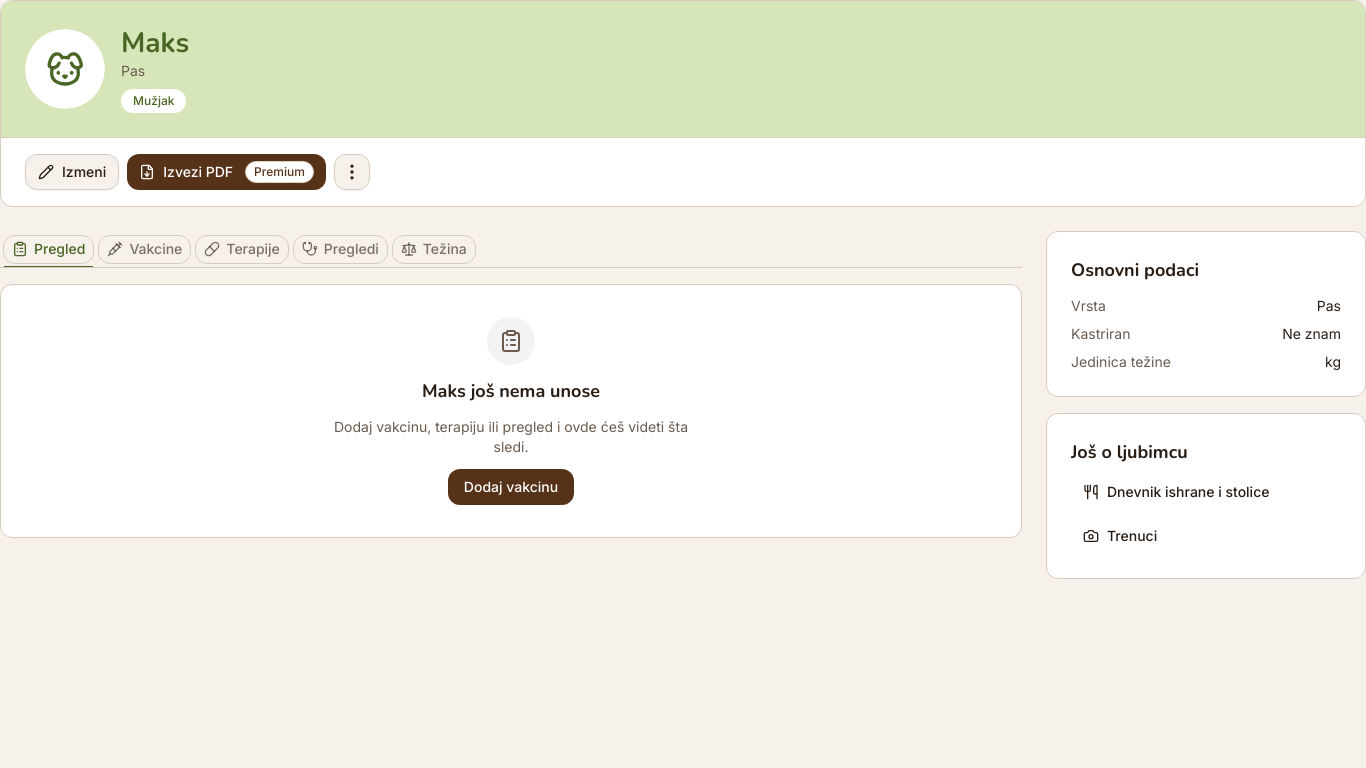
EP-06 — Premesti u Uspomene › uses the masculine reason forms for a male pet
This screenshot has width=1366, height=768.
Click the button named "Još opcija" at (352, 172), box [334,154,370,190]
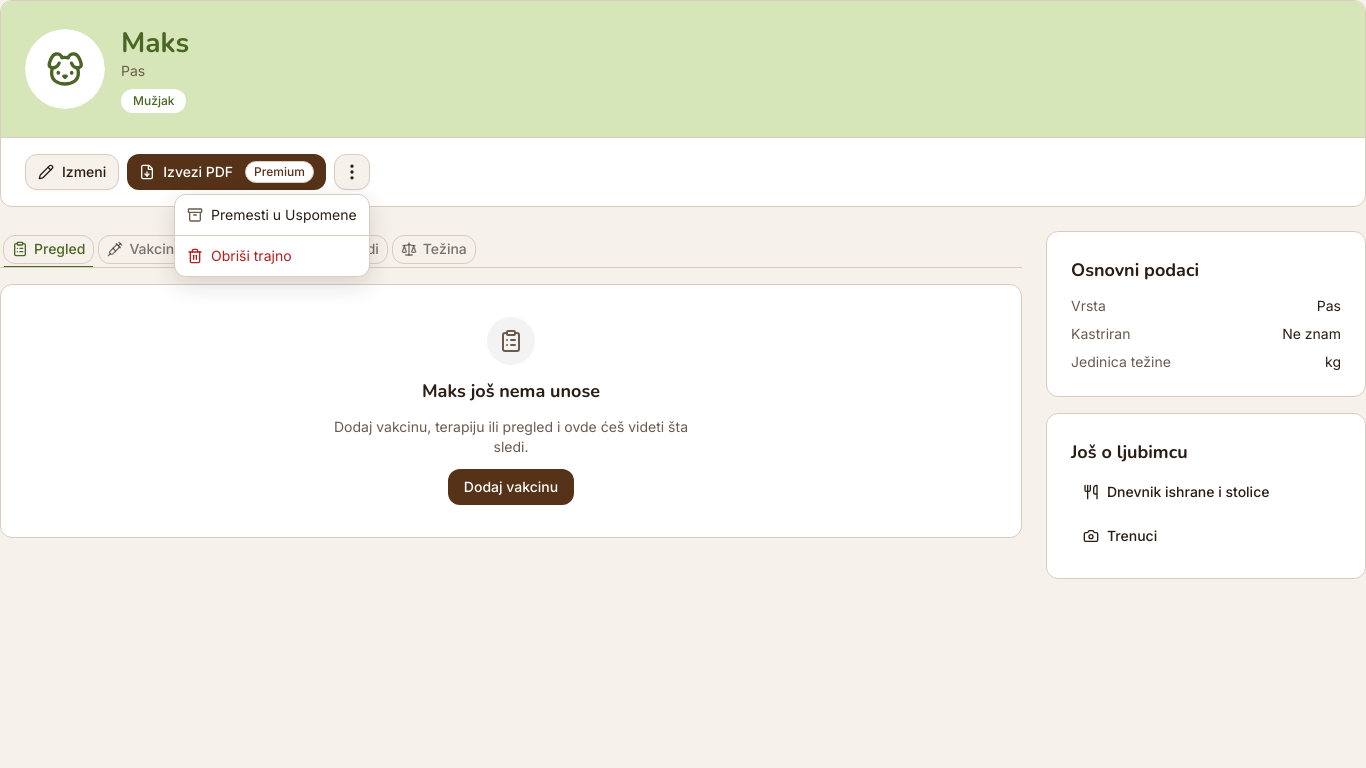
Click the menu item "Premesti u Uspomene" at (272, 214), box [187,206,357,223]
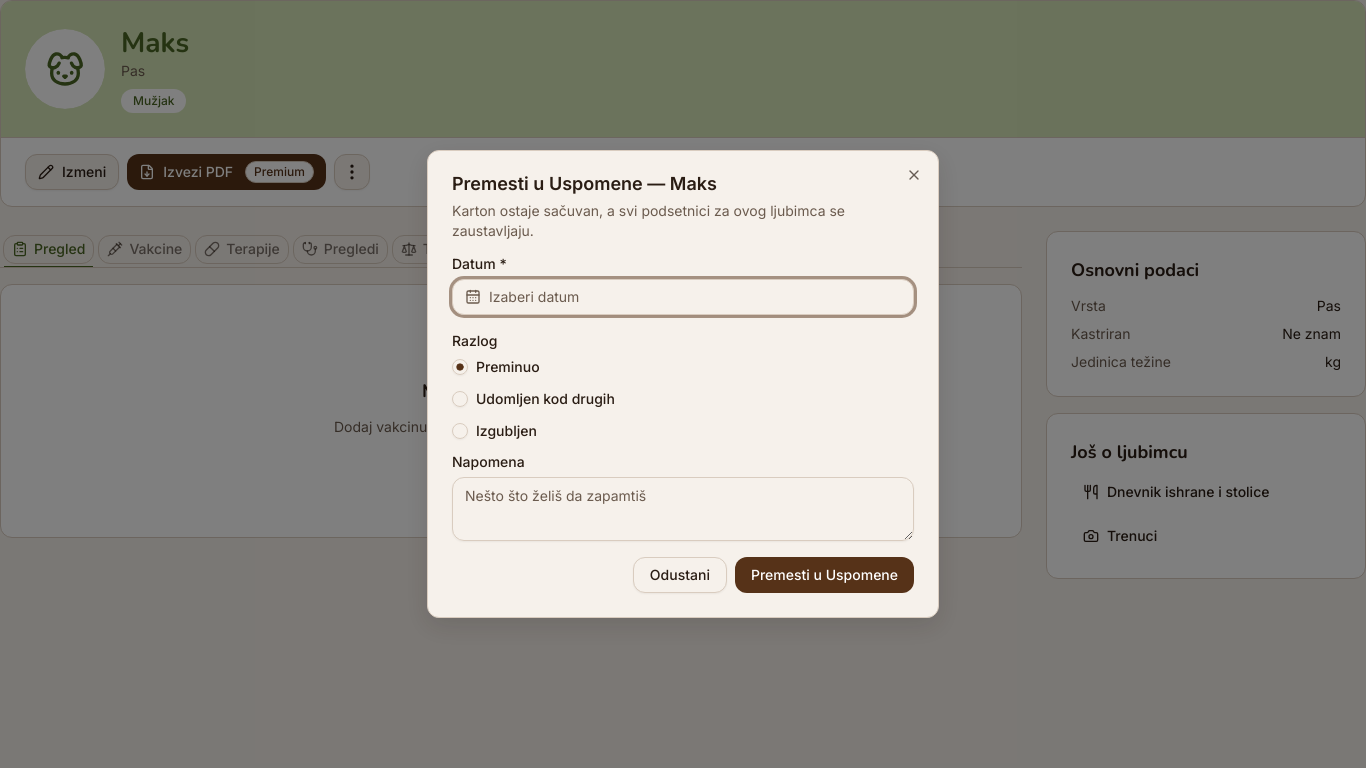
Result: the radio button named "Preminuo" next to "Preminuo" is shown at [452,359,468,375]
Result: the radio button named "Udomljen kod drugih" next to "Udomljen kod drugih" is shown at [452,391,468,407]
Result: the radio button named "Izgubljen" next to "Izgubljen" is shown at [452,423,468,439]
